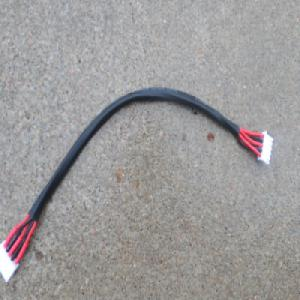Wire: (0, 85, 275, 284)
